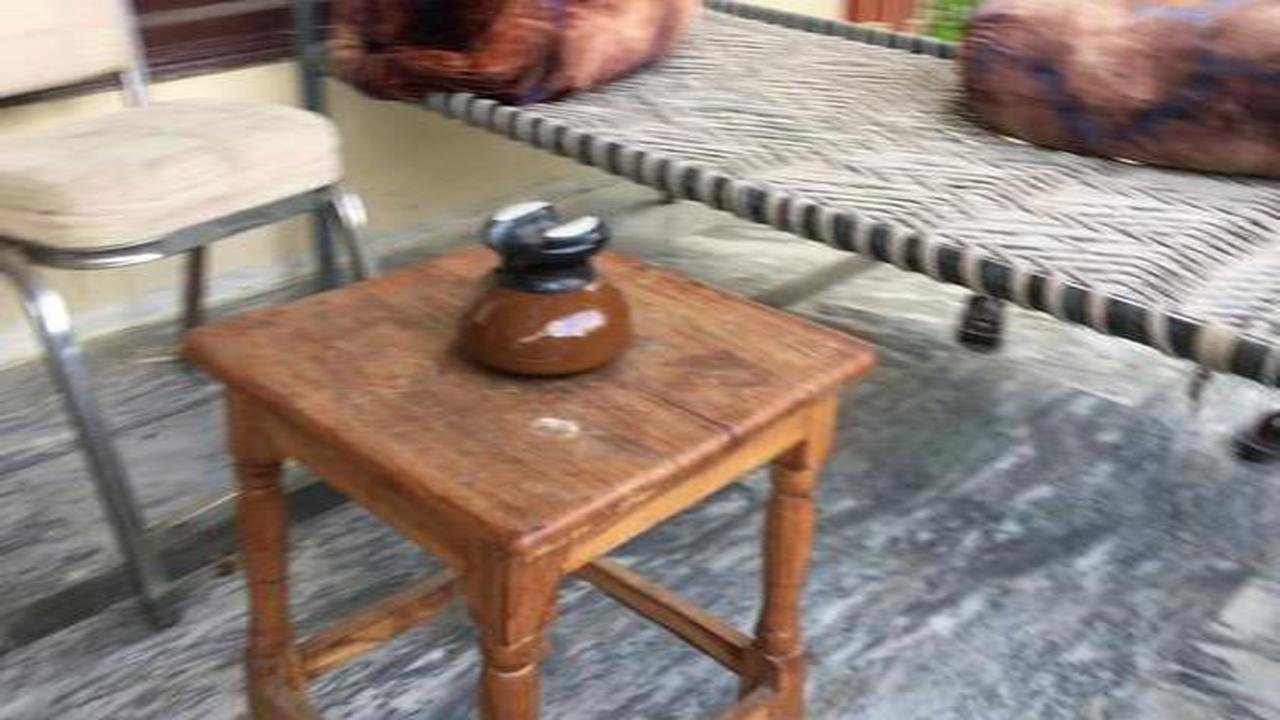insulator_pin: (437, 189, 644, 388)
